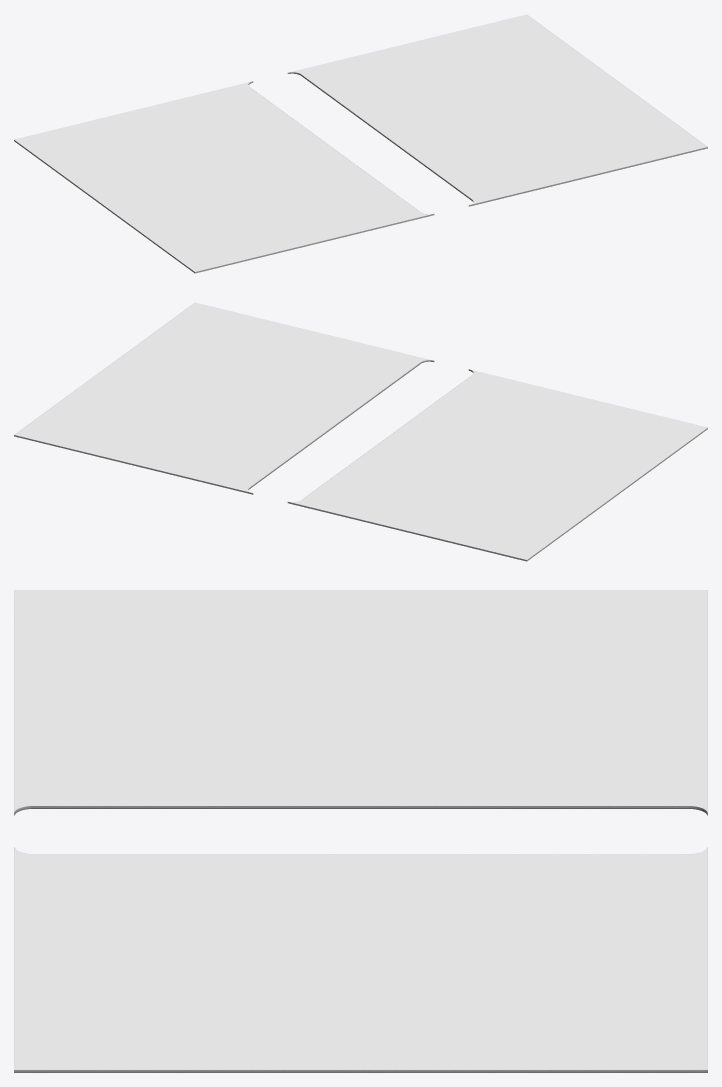
The picture shows the model from 3 angles, top to bottom: view 1: azimuth 30°, elevation 25°; view 2: azimuth 150°, elevation 25°; view 3: azimuth 270°, elevation 25°; orthographic projection. The views are drawn at different scales.
Visible parts, largest first — view 1: HORNEADO_suelo; view 2: HORNEADO_suelo; view 3: HORNEADO_suelo.
Boxes of the visible parts, x1,y1,x2,y2 form: HORNEADO_suelo: (14, 14, 707, 273); HORNEADO_suelo: (14, 302, 707, 561); HORNEADO_suelo: (14, 590, 707, 1072).
Size of what is drawn, in the model's own units: 36 by 0.1 by 22.
1 material, 1 textured.
